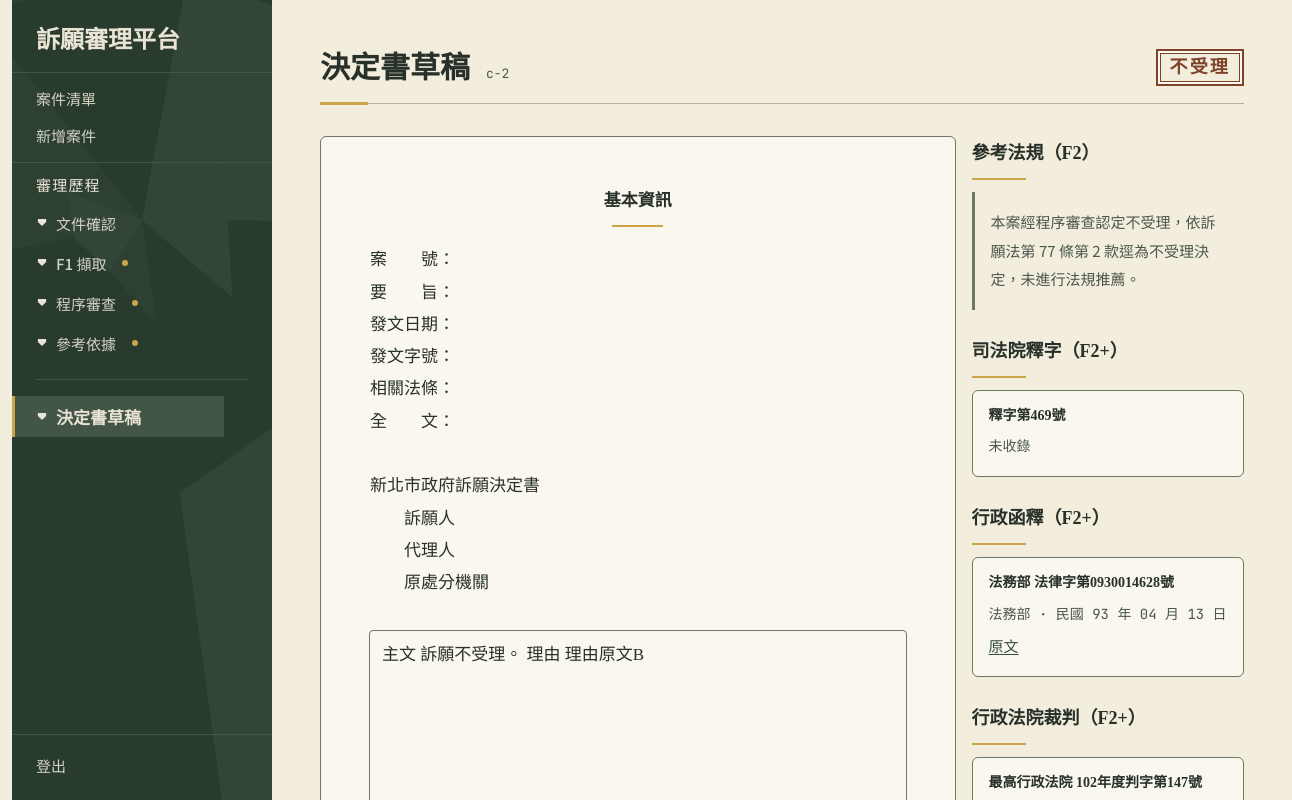
Test: 案件詳情 › 不受理案件:法規那一組說「不適用」+ 說明句,不顯示「無」;草稿依據欄同樣列出 F2 組
Expected: the text "參考法規（F2）" is shown, left=972, top=143, right=1100, bottom=163
Expected: the text "本案經程序審查認定不受理，依訴願法第 77 條第 2 款逕為不受理決定，未進行法規推薦。" is shown, left=972, top=192, right=1244, bottom=310
「不適用」是法規那一組的事,不是整個參考依據節點的事——參考見解與案例兩條 track 都跑
Click the button "參考依據". click: (118,343)
box: left=12, top=323, right=224, bottom=363
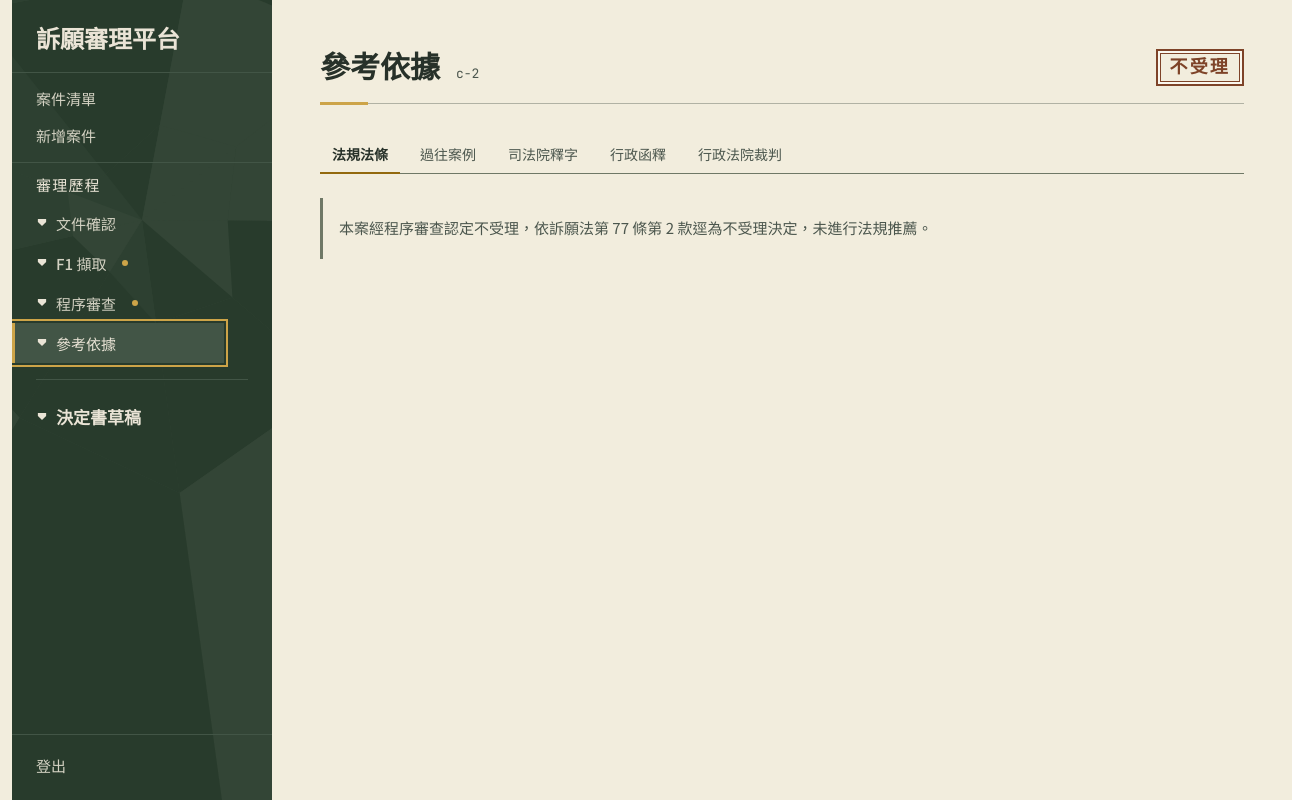
Expected: the text "本案經程序審查認定不受理，依訴願法第 77 條第 2 款逕為不受理決定，未進行法規推薦。" is shown, left=320, top=198, right=1244, bottom=258
Result: the tab "過往案例" is shown at left=408, top=136, right=488, bottom=174
